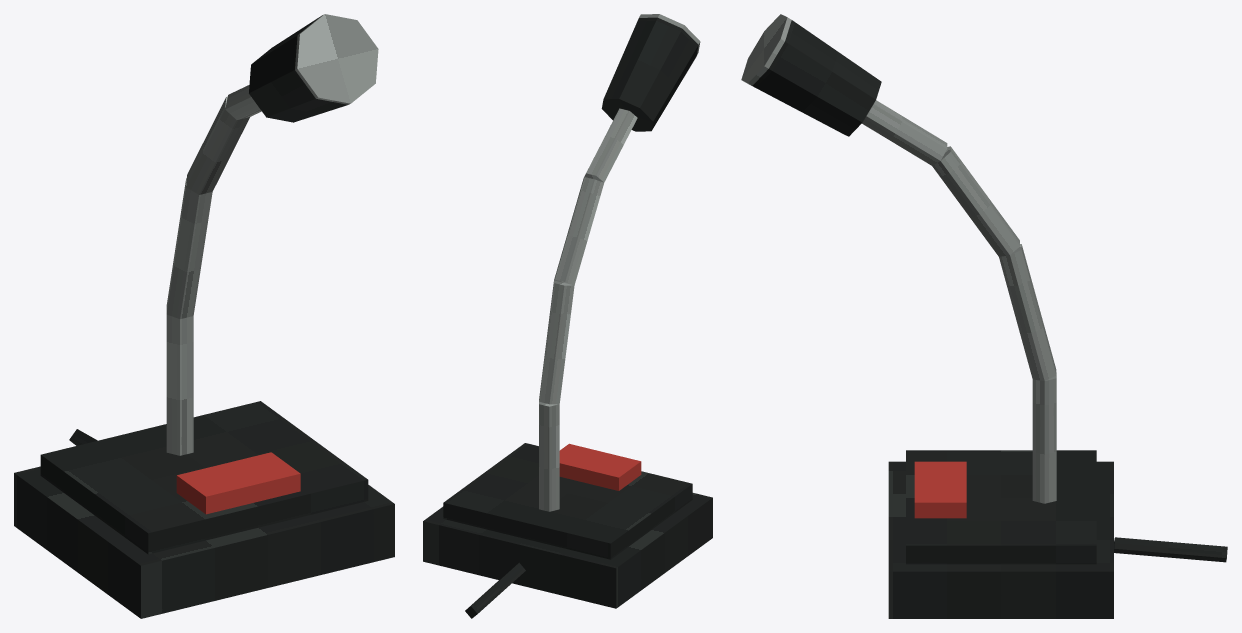
File: intercom_mic.glb
3 views of the same model, side by side, from view 1: azimuth 30°, elevation 25°; view 2: azimuth 150°, elevation 25°; view 3: azimuth 270°, elevation 25° (orthographic). The views are drawn at different scales.
Parts seen in each view (by area): view 1: IntercomMic; view 2: IntercomMic; view 3: IntercomMic.
Part boxes in pixels (x1,y1,x2,y2): IntercomMic: [14, 14, 394, 618]; IntercomMic: [423, 14, 712, 618]; IntercomMic: [741, 14, 1227, 618].
Size of the model in its own units: 0.15 by 0.3477 by 0.2804.
3 materials, 2 textured.
